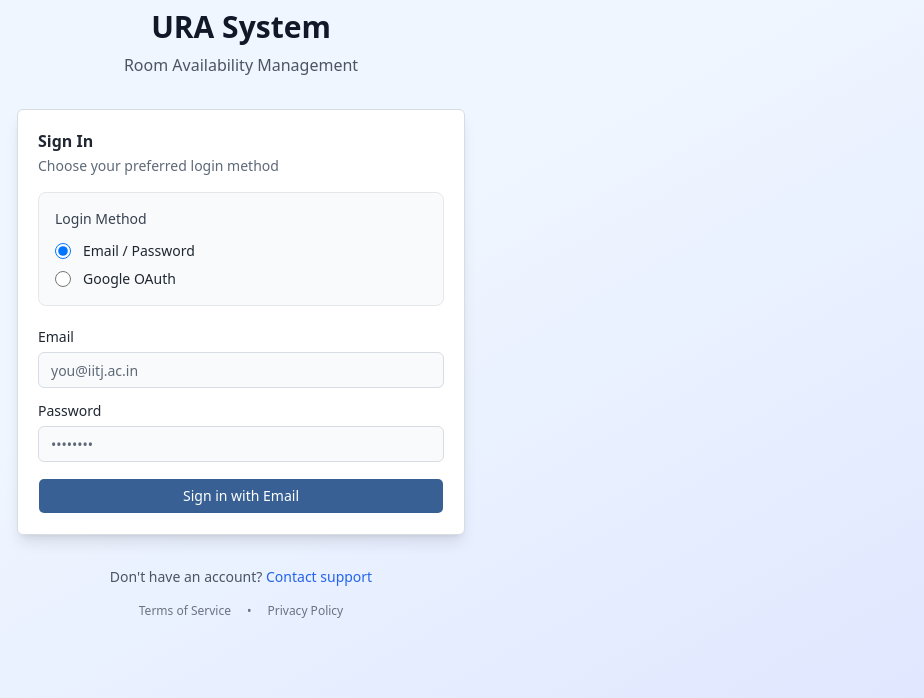
Test: LoginPage › shows validation message for non-iitj email
Type "user@gmail.com" into the field labelled "Email" at (241, 370), box [38,352,444,388]
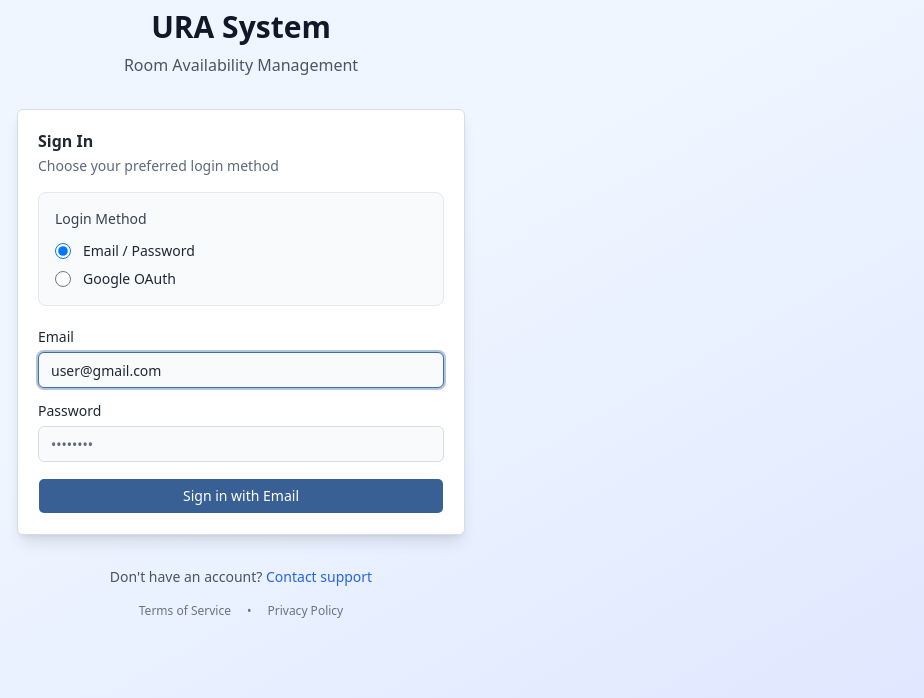
Type "password123" into the password field labelled "Password" at (241, 444), box [38,426,444,462]
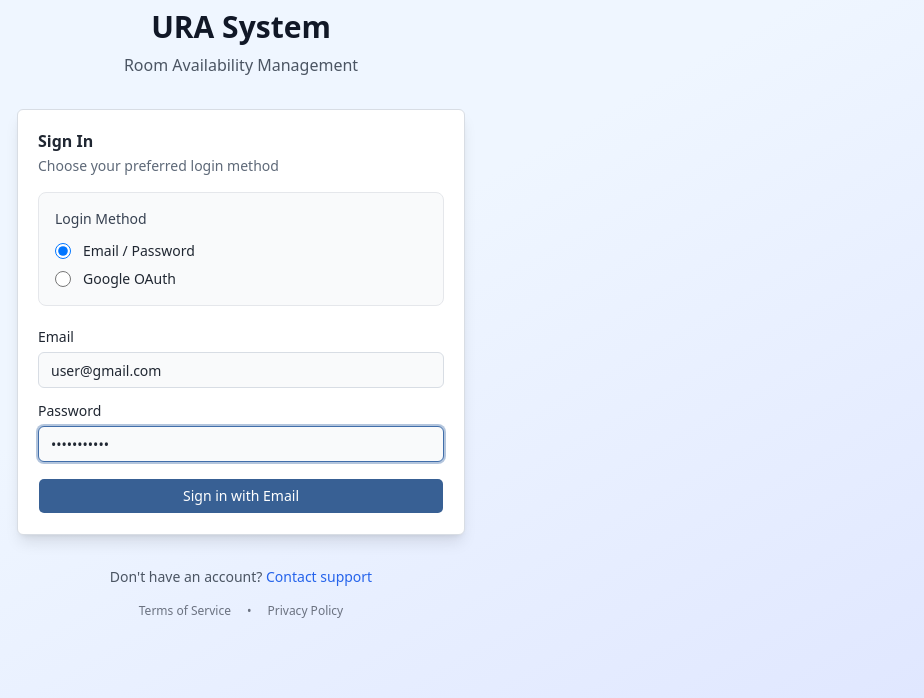
Click the button "Sign in with Email" at (241, 496), box [38,478,444,514]
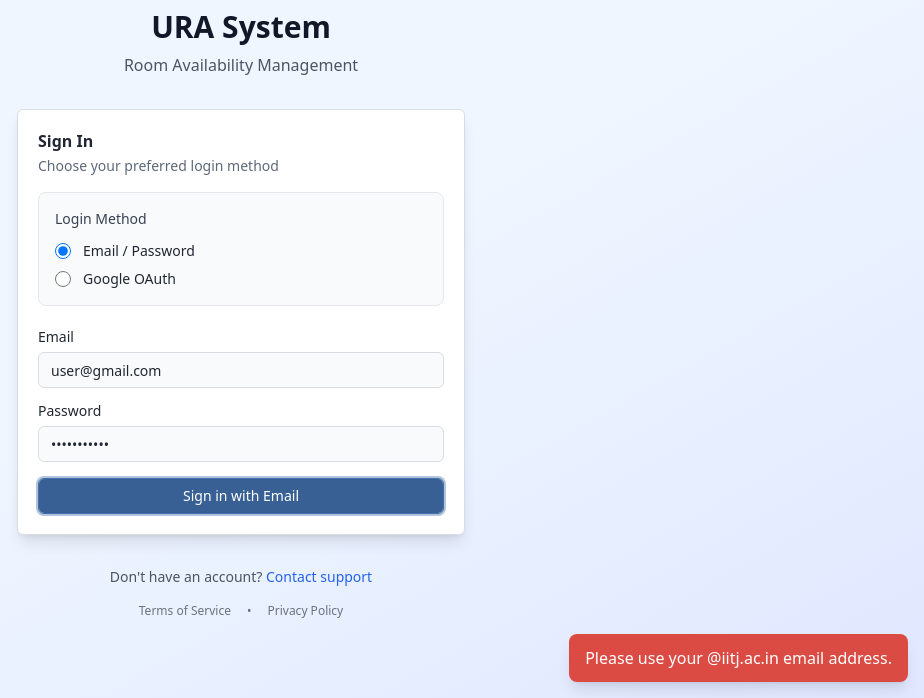
expect the text "Please use your @iitj.ac.in email address." is shown: met, box [585,646,892,670]
